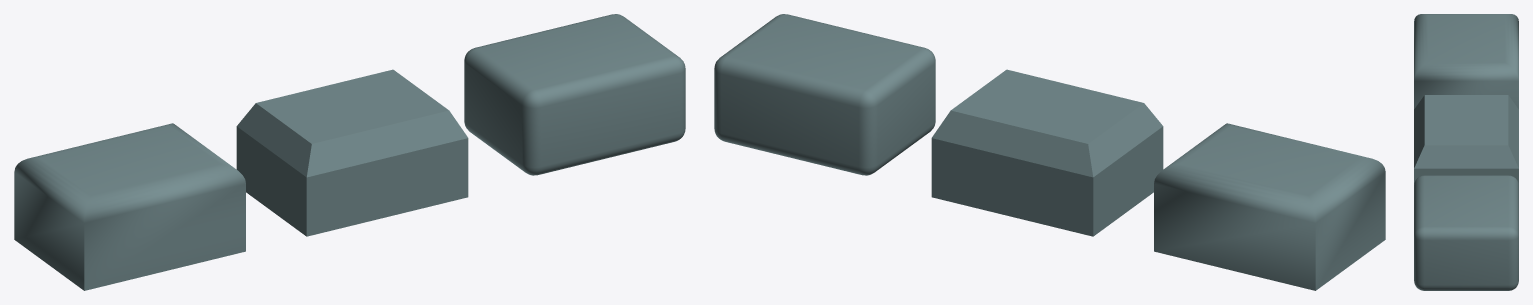
Rendered from edits_edges.glb.
3 views of the same model, side by side, from view 1: azimuth 30°, elevation 25°; view 2: azimuth 150°, elevation 25°; view 3: azimuth 270°, elevation 25° (orthographic). The views are drawn at different scales.
Parts seen in each view (by area): view 1: bevelled; view 2: bevelled; view 3: bevelled.
Boxes of the visible parts, x1,y1,x2,y2 form: bevelled: (14, 14, 685, 290); bevelled: (714, 14, 1385, 290); bevelled: (1414, 14, 1518, 290).
Bounding box in the file's own units: 0.15 × 0.02 × 0.03.
